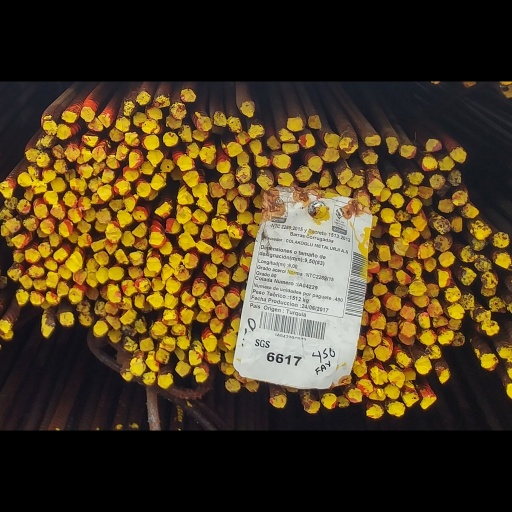dipstick: (470, 204, 492, 231), (256, 129, 274, 160), (492, 246, 511, 274), (414, 401, 432, 430), (426, 318, 444, 346), (339, 80, 358, 106), (66, 249, 82, 279), (418, 363, 437, 388), (480, 399, 498, 425), (435, 415, 451, 444), (386, 468, 405, 492), (488, 316, 506, 341), (199, 95, 216, 121), (449, 94, 466, 120), (388, 423, 405, 449), (356, 437, 373, 463), (446, 325, 465, 348), (173, 269, 191, 293), (116, 187, 132, 214), (154, 175, 172, 199), (433, 200, 451, 224), (480, 279, 498, 303), (169, 30, 186, 55), (178, 222, 195, 247), (295, 122, 312, 147), (353, 159, 370, 184), (367, 142, 384, 167), (460, 241, 477, 266), (475, 255, 492, 280), (364, 316, 381, 341), (437, 363, 454, 388), (370, 419, 387, 444), (106, 208, 121, 236), (480, 350, 499, 372), (176, 182, 192, 208), (149, 220, 166, 244), (192, 418, 209, 442), (224, 309, 241, 333), (438, 248, 455, 272), (492, 220, 509, 244), (236, 123, 252, 148), (151, 352, 167, 377), (374, 386, 390, 411), (146, 311, 164, 333), (273, 106, 291, 128), (385, 79, 399, 107), (286, 50, 303, 73), (298, 75, 315, 98), (451, 159, 468, 182), (410, 196, 427, 219), (146, 396, 159, 426), (308, 108, 323, 134), (394, 230, 409, 256), (5, 200, 21, 224), (165, 287, 181, 311), (216, 222, 232, 246), (337, 127, 353, 151), (386, 134, 402, 158), (434, 225, 450, 249), (418, 236, 434, 260), (406, 261, 422, 285), (460, 276, 476, 300), (370, 341, 386, 365), (445, 301, 461, 325), (142, 56, 160, 77), (76, 121, 94, 142), (322, 97, 340, 118), (227, 50, 242, 75), (151, 135, 166, 160), (215, 170, 230, 195), (180, 307, 195, 332), (223, 368, 238, 393), (460, 309, 475, 334), (113, 145, 130, 167), (209, 148, 226, 170), (238, 148, 255, 170), (196, 170, 213, 192), (227, 209, 244, 231), (198, 316, 215, 338), (277, 132, 294, 154), (323, 74, 340, 96), (361, 99, 378, 121), (399, 353, 416, 375), (121, 290, 137, 313), (162, 334, 178, 357), (406, 171, 422, 194), (396, 396, 412, 419), (384, 444, 400, 467), (346, 449, 362, 472), (107, 297, 121, 323), (64, 94, 79, 118), (132, 182, 147, 206), (183, 130, 198, 154), (130, 407, 145, 431), (188, 392, 203, 416), (175, 410, 190, 434), (470, 227, 488, 247), (409, 294, 427, 314), (321, 456, 336, 480), (269, 459, 287, 479), (22, 199, 39, 220), (123, 124, 140, 145), (196, 233, 213, 254), (366, 473, 383, 494), (303, 466, 320, 487), (93, 248, 109, 270), (95, 186, 111, 208), (192, 147, 208, 169), (159, 374, 175, 396), (227, 88, 243, 110), (421, 109, 437, 131), (429, 136, 445, 158), (403, 214, 419, 236), (463, 178, 479, 200), (385, 313, 401, 335), (399, 330, 415, 352), (447, 129, 461, 154), (144, 78, 159, 101), (72, 275, 87, 298), (135, 288, 150, 311), (132, 206, 147, 229), (177, 109, 192, 132), (202, 373, 217, 396), (366, 365, 381, 388), (352, 410, 367, 433), (26, 269, 44, 288), (406, 132, 424, 151), (419, 462, 437, 481), (401, 458, 419, 477), (248, 62, 265, 82), (400, 93, 417, 113), (347, 136, 364, 156), (0, 145, 13, 171), (438, 276, 451, 302), (196, 50, 212, 71), (240, 28, 254, 52), (59, 203, 73, 227), (177, 160, 193, 181), (211, 199, 227, 220), (156, 391, 170, 415), (224, 435, 240, 456), (438, 171, 454, 192), (377, 239, 391, 263), (372, 294, 388, 315), (425, 386, 441, 407), (157, 429, 173, 450), (77, 99, 92, 121), (163, 74, 178, 96), (25, 244, 40, 266), (121, 335, 136, 357), (123, 167, 138, 189), (150, 286, 165, 308), (183, 252, 198, 274), (219, 134, 234, 156), (165, 200, 180, 222), (214, 327, 229, 349), (439, 109, 454, 131), (236, 191, 253, 210), (278, 69, 295, 88), (474, 333, 491, 352), (15, 304, 29, 327), (115, 245, 129, 268), (233, 169, 247, 192), (180, 333, 194, 356), (209, 347, 223, 370), (223, 250, 237, 273), (390, 162, 404, 185), (422, 256, 436, 279), (147, 101, 163, 121), (235, 72, 251, 92), (425, 82, 441, 102), (375, 156, 391, 176), (395, 277, 411, 297), (17, 133, 32, 154), (50, 181, 65, 202), (59, 337, 74, 358), (136, 148, 151, 169), (128, 248, 143, 269), (192, 188, 207, 209), (232, 272, 247, 293), (388, 254, 403, 275), (378, 275, 393, 296), (161, 267, 174, 291), (121, 218, 134, 242), (417, 338, 430, 362), (136, 13, 150, 35), (34, 178, 48, 200), (68, 303, 82, 325), (58, 268, 72, 290), (164, 311, 178, 333), (210, 300, 224, 322), (425, 295, 439, 317), (254, 107, 271, 125), (364, 77, 381, 95), (411, 314, 429, 331), (398, 370, 415, 388), (61, 42, 77, 61), (154, 19, 170, 38), (180, 11, 196, 30), (166, 50, 182, 69), (192, 69, 208, 88), (115, 53, 130, 73), (124, 74, 139, 94), (180, 64, 192, 89), (51, 140, 66, 160), (12, 224, 27, 244), (53, 244, 68, 264), (30, 307, 45, 327), (46, 278, 58, 303), (45, 307, 60, 327), (78, 338, 93, 358), (96, 272, 108, 297), (108, 271, 123, 291), (128, 269, 143, 289), (320, 130, 332, 155), (213, 43, 226, 66), (86, 278, 99, 301), (204, 267, 217, 290), (43, 56, 57, 77), (80, 37, 94, 58), (38, 236, 52, 257), (68, 186, 82, 207), (82, 184, 96, 205), (98, 152, 112, 173), (267, 78, 281, 99), (146, 38, 163, 55), (129, 102, 141, 126), (70, 142, 86, 160), (57, 63, 70, 85), (93, 96, 106, 118), (17, 172, 30, 194), (19, 283, 32, 305), (41, 355, 54, 377), (86, 300, 99, 322), (64, 162, 77, 184), (103, 231, 116, 253), (186, 90, 199, 112), (216, 279, 229, 301), (249, 85, 262, 107), (88, 53, 103, 72), (106, 344, 121, 363), (168, 253, 183, 272), (133, 228, 148, 247), (183, 204, 198, 223), (110, 68, 124, 88), (133, 45, 147, 65), (54, 114, 68, 134), (44, 161, 58, 181), (40, 203, 54, 223), (94, 351, 108, 371), (123, 375, 137, 395), (147, 258, 161, 278), (139, 375, 153, 395), (176, 373, 190, 393), (362, 388, 374, 411), (44, 258, 57, 279), (89, 140, 102, 161), (159, 234, 172, 255), (308, 48, 321, 69), (381, 185, 394, 206), (282, 90, 299, 106), (335, 151, 351, 168), (32, 145, 47, 163), (105, 323, 120, 341), (223, 395, 238, 413), (403, 152, 418, 170), (418, 154, 433, 172), (447, 347, 462, 365), (25, 99, 39, 118), (106, 107, 120, 126), (366, 262, 380, 281), (395, 298, 409, 317), (116, 93, 128, 115), (57, 292, 69, 314), (94, 322, 106, 344), (200, 209, 212, 231), (386, 352, 398, 374), (27, 123, 40, 143), (211, 247, 224, 267), (192, 294, 205, 314), (197, 335, 210, 355), (369, 451, 385, 467), (41, 79, 56, 96), (83, 79, 98, 96), (76, 322, 91, 339), (123, 26, 134, 49), (451, 198, 462, 221), (37, 104, 49, 125), (53, 92, 65, 113), (68, 217, 80, 238), (7, 274, 21, 292), (216, 115, 230, 133), (171, 355, 185, 373), (206, 395, 220, 413), (237, 102, 249, 123), (92, 118, 105, 137), (109, 363, 122, 382), (78, 223, 91, 242), (135, 348, 146, 370), (102, 128, 114, 148), (141, 117, 153, 137), (143, 426, 155, 446), (395, 189, 411, 204), (389, 208, 401, 228), (453, 368, 465, 388), (33, 289, 47, 306), (91, 231, 105, 248), (221, 413, 235, 430), (119, 316, 132, 334), (77, 203, 90, 221), (161, 114, 174, 132), (134, 311, 145, 332), (42, 130, 56, 146), (432, 346, 448, 360), (4, 170, 17, 187), (86, 261, 99, 278), (100, 48, 111, 68), (65, 127, 76, 147), (0, 349, 11, 369), (78, 169, 90, 187), (360, 336, 369, 360), (50, 222, 60, 243), (143, 272, 158, 286), (370, 173, 380, 194), (0, 187, 13, 203), (91, 164, 104, 180), (110, 173, 123, 189), (226, 157, 238, 174), (120, 422, 132, 439), (246, 439, 258, 456), (357, 371, 366, 393), (480, 303, 496, 315), (404, 423, 416, 439), (337, 462, 349, 478), (100, 298, 108, 321), (24, 154, 33, 173), (0, 207, 9, 226), (94, 206, 107, 219), (13, 252, 24, 267)
